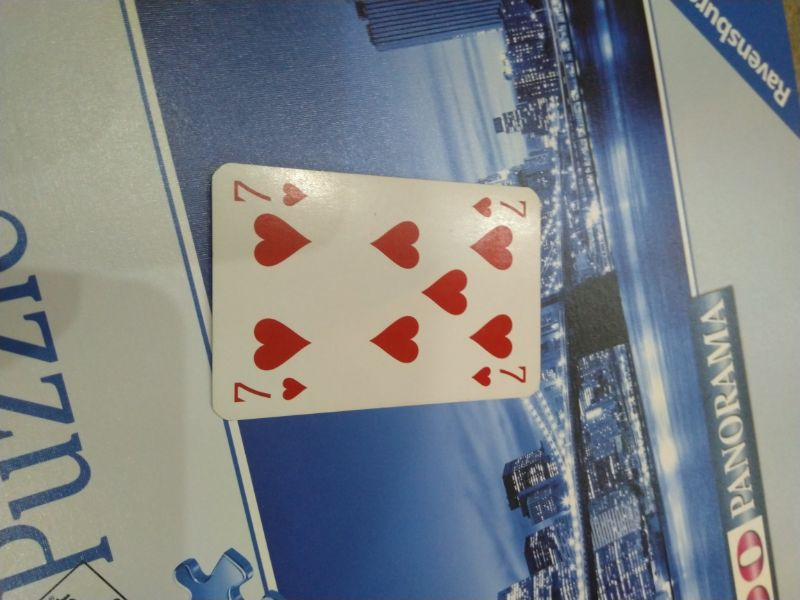7h: (227, 171, 313, 209), (222, 372, 311, 406), (467, 358, 530, 391), (469, 194, 528, 221)
